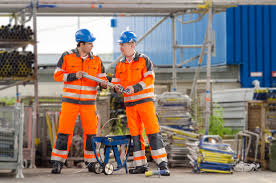Person_wearing_helmet: (67, 28, 96, 47), (115, 29, 139, 49)
